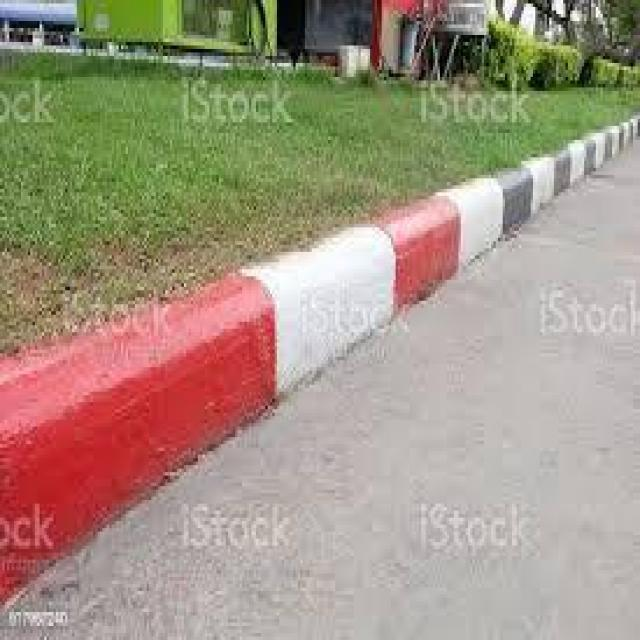bump: (0, 204, 420, 561)
